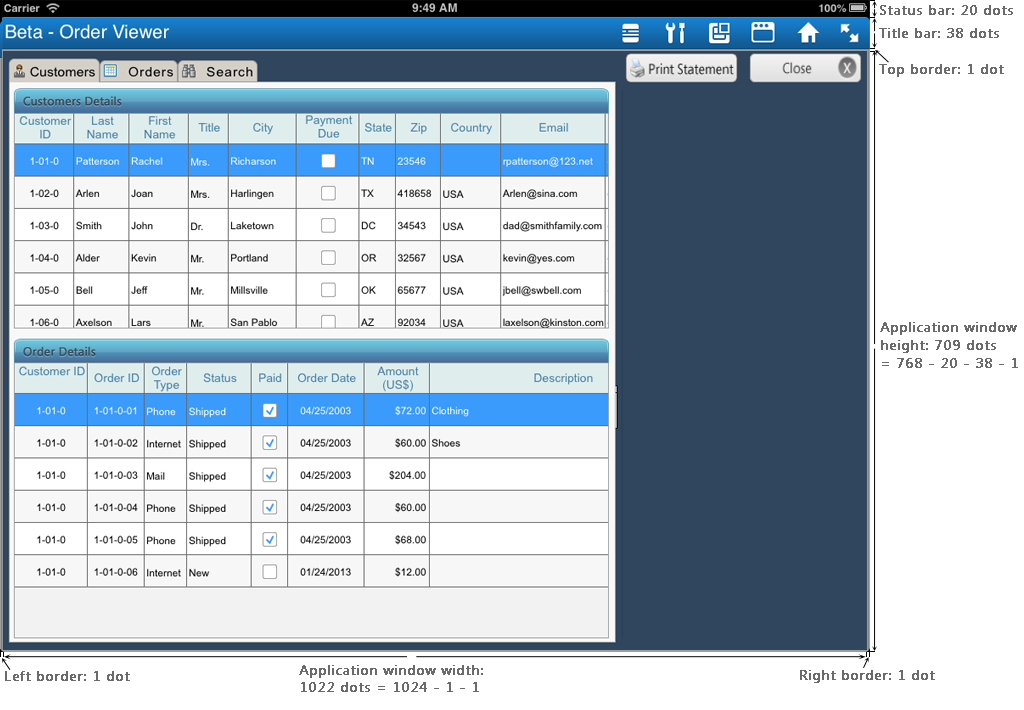BUTTON: (749, 52, 863, 84), (625, 52, 738, 84)
CHECKBOX_CHECKED: (261, 402, 278, 419), (261, 434, 278, 451), (262, 466, 278, 483), (262, 499, 278, 516), (262, 531, 278, 548)
CHECKBOX_UNCHECKED: (319, 216, 338, 235), (319, 281, 338, 299), (319, 249, 337, 266), (261, 563, 278, 581), (319, 313, 338, 329), (320, 185, 337, 202), (320, 153, 337, 169)
COLUMN: (427, 363, 609, 588), (500, 112, 608, 328), (13, 364, 88, 588), (288, 364, 363, 588), (362, 364, 430, 588), (229, 112, 295, 329), (185, 362, 249, 585), (12, 112, 74, 329), (296, 112, 358, 329), (439, 114, 501, 331), (127, 113, 189, 330), (87, 363, 146, 588), (73, 112, 129, 328), (395, 114, 440, 330), (144, 362, 186, 588), (188, 112, 228, 330), (358, 113, 395, 331), (249, 364, 285, 583)
HEADER_ROW: (13, 111, 604, 142), (14, 363, 609, 392)
IMAGEBUTTON: (700, 16, 738, 49), (829, 17, 867, 48), (744, 17, 781, 48), (792, 17, 826, 49), (659, 17, 691, 49), (615, 17, 648, 48)
IMAGEBUTTON_TEXT: (626, 54, 737, 83), (750, 54, 860, 83), (10, 58, 98, 82), (98, 58, 177, 81), (178, 59, 257, 80)
ROW: (15, 142, 607, 177), (13, 174, 605, 209), (14, 208, 606, 243), (15, 238, 607, 273), (13, 270, 605, 305), (14, 392, 610, 426), (13, 425, 609, 459), (13, 455, 609, 489), (13, 490, 609, 524), (12, 521, 608, 555), (13, 552, 609, 586), (14, 303, 608, 329)
TABLE: (13, 339, 609, 587), (13, 87, 612, 329)
